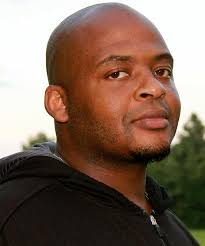black_male: (38, 2, 191, 180)
